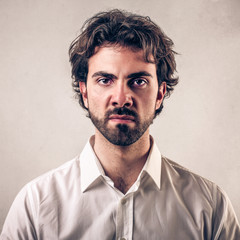young: (65, 3, 189, 155)
